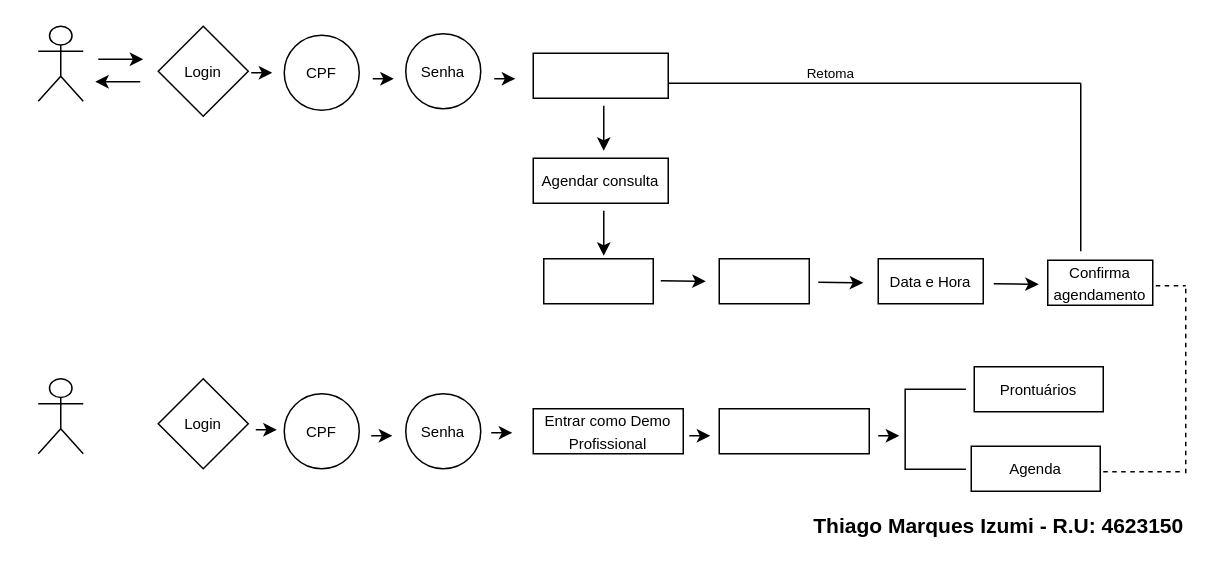
This 1220x578 diagram has some shape labels left out. The shapes that lost their labels are listed below. From the top down, each one's box as (x1, y1, x2, y2) in pixels, then its label:
(37, 25, 83, 101): Paciente
(532, 52, 668, 98): Frame Dashboard
(542, 257, 653, 304): Especialidade
(718, 257, 809, 304): Profissional
(37, 377, 83, 454): Médico
(718, 407, 869, 454): Frame Dashboard Profissional
